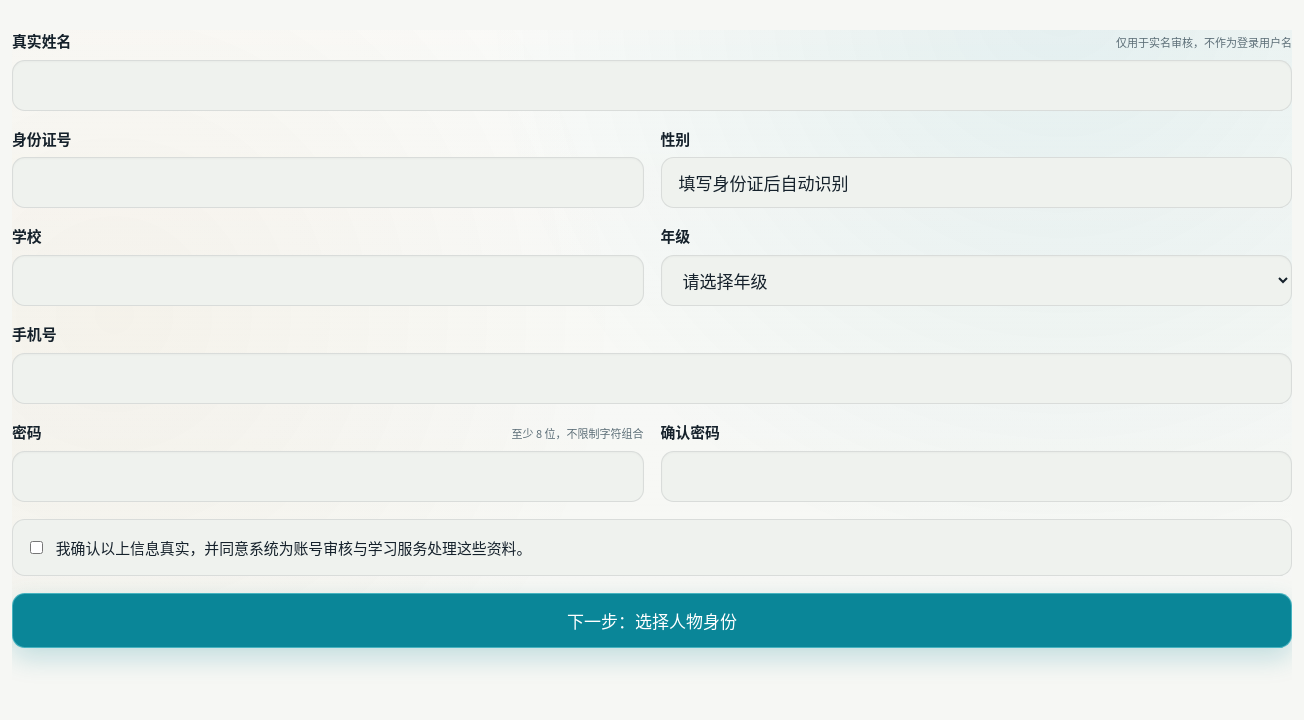
it: student registration form › loads real-name details, derives gender, and hides the login username
Type "11010519491231002X" into the field labelled "身份证号" at (328,183), box [12,157,644,208]
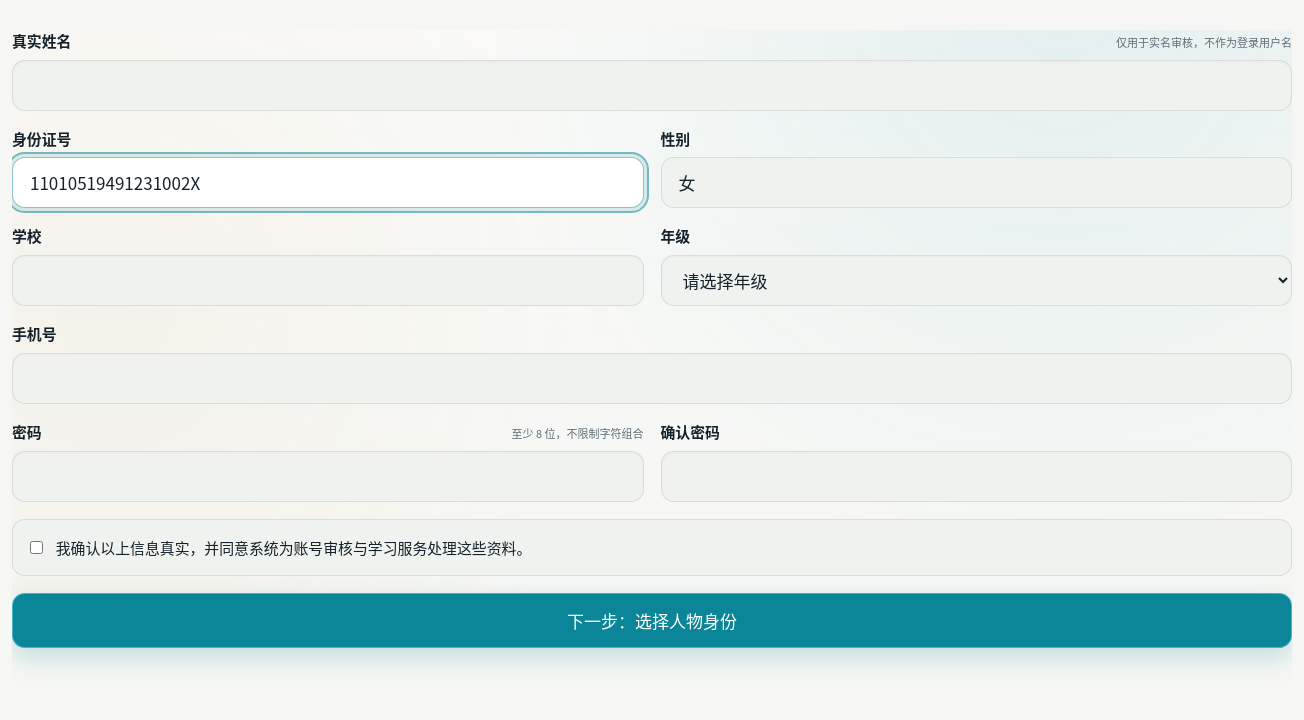
Check: the text "仅用于实名审核，不作为登录用户名" is shown, box [1116,34,1292,50]
Check: the text "女" is shown, box [660,157,1292,208]
